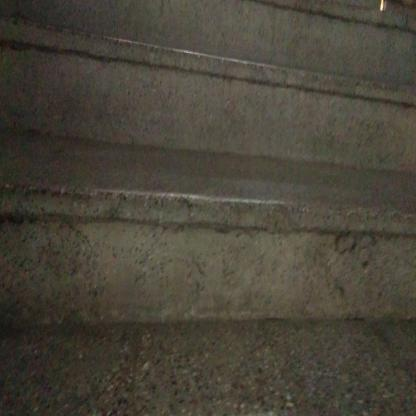stairs: (25, 62, 402, 360)
